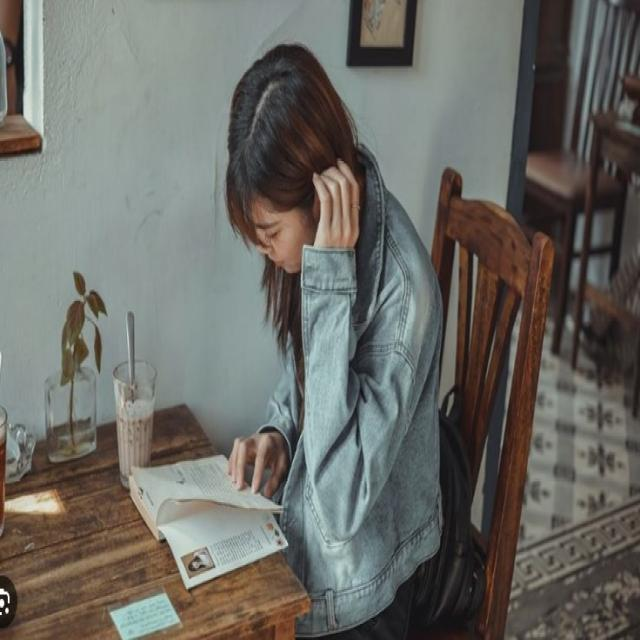studying-person: (121, 17, 476, 640)
